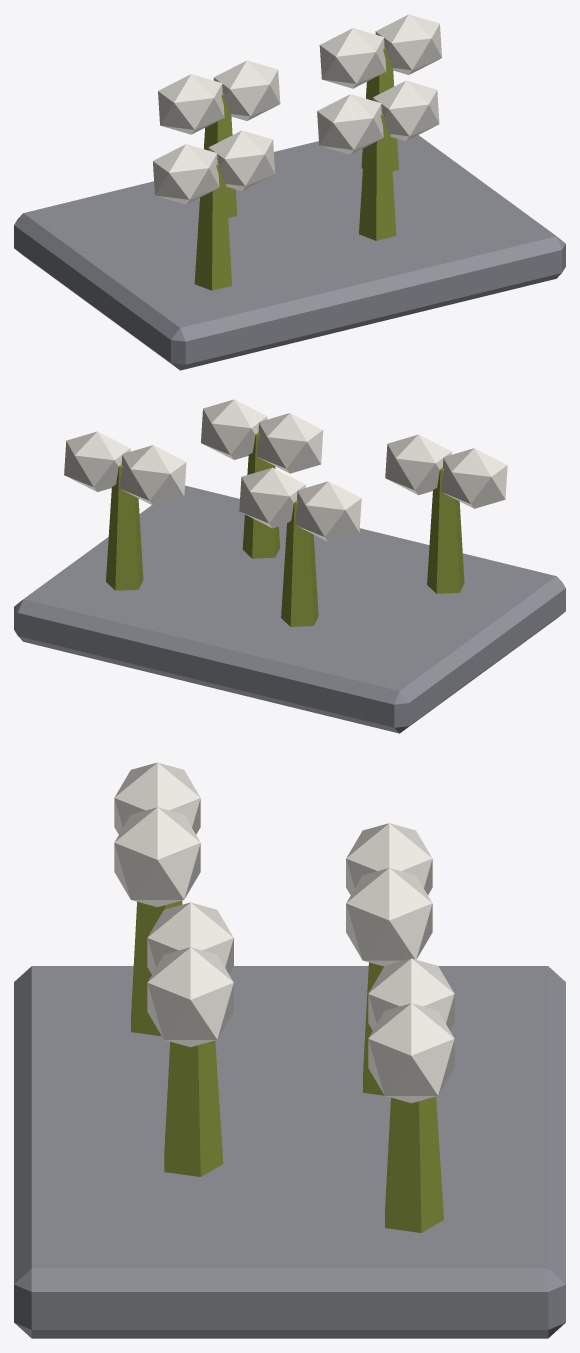
File: res_cotton.glb
3 views of the same model, one above another, from view 1: azimuth 30°, elevation 25°; view 2: azimuth 150°, elevation 25°; view 3: azimuth 270°, elevation 25° (orthographic). The views are drawn at different scales.
Visible parts, largest first — view 1: res_cotton; view 2: res_cotton; view 3: res_cotton.
Boxes of the visible parts, box(x1,y1,x2,y2) form: res_cotton: box(14, 14, 565, 370); res_cotton: box(14, 399, 565, 733); res_cotton: box(14, 762, 565, 1338).
Bounding box in the file's own units: 0.34 × 0.1545 × 0.25.
